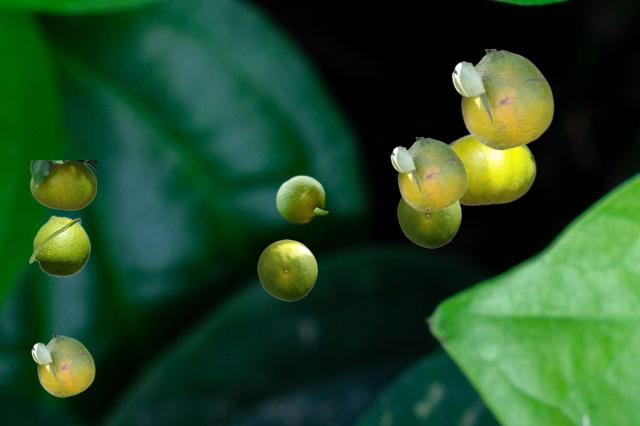dalandan: (451, 49, 553, 149), (449, 134, 535, 205), (390, 137, 466, 211), (31, 335, 94, 396), (28, 215, 90, 276), (257, 239, 316, 300), (30, 160, 95, 209), (397, 197, 460, 247), (275, 174, 328, 223)
